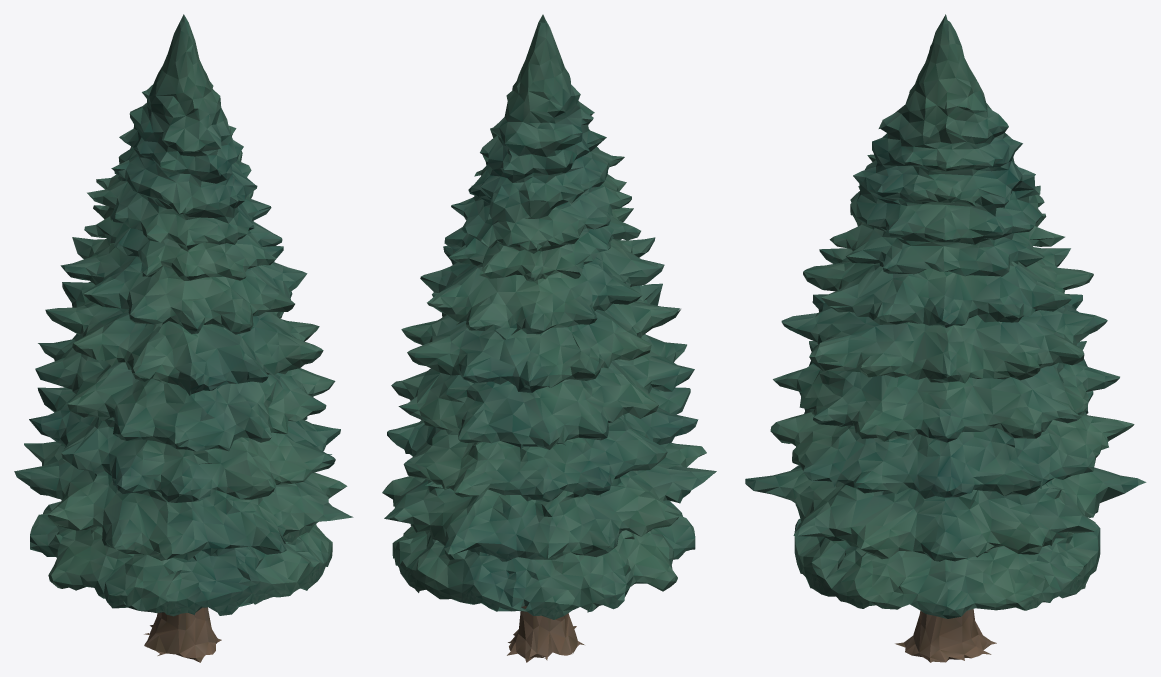
File: spruce_tree.glb
3 renders of one model, left to right at view 1: azimuth 30°, elevation 25°; view 2: azimuth 150°, elevation 25°; view 3: azimuth 270°, elevation 25°, orthographic.
Visible parts, largest first — view 1: world; view 2: world; view 3: world.
Boxes of the visible parts, <box> form: world: <box>14,14,353,662</box>; world: <box>382,14,716,662</box>; world: <box>745,14,1146,662</box>.
Size of the model in its own units: 2.45 by 5.5 by 3.15.
